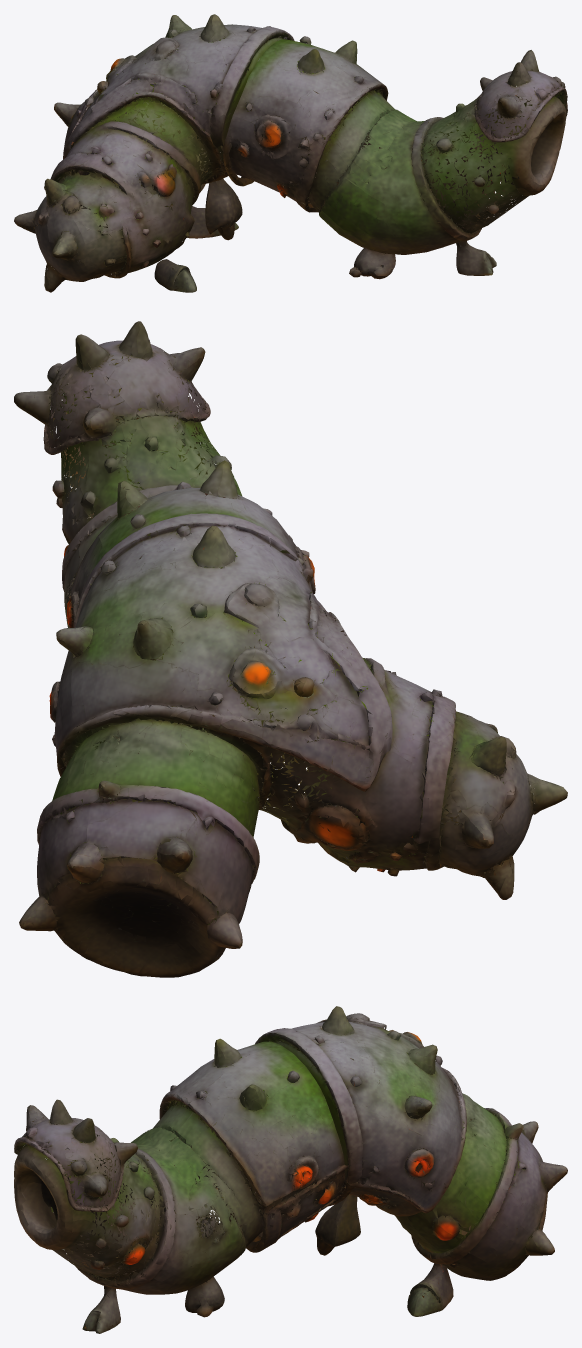
3 views of the same model, one above another, from view 1: azimuth 30°, elevation 25°; view 2: azimuth 150°, elevation 25°; view 3: azimuth 270°, elevation 25° (orthographic). The views are drawn at different scales.
Parts seen in each view (by area): view 1: world; view 2: world; view 3: world.
Boxes of the visible parts, x1,y1,x2,y2 form: world: [14, 14, 567, 292]; world: [14, 321, 567, 977]; world: [14, 1006, 567, 1333].
Size of the model in its own units: 0.9994 by 0.556 by 0.9835.
1 material, 1 textured.
